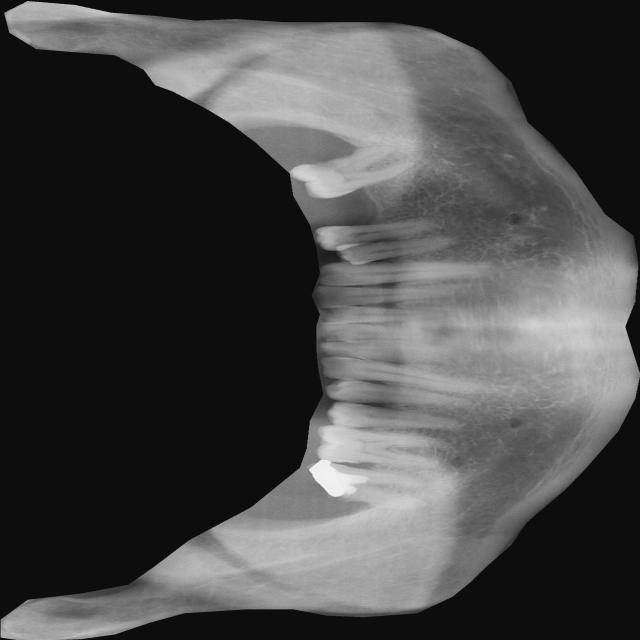mandibula: (1, 0, 640, 640)
